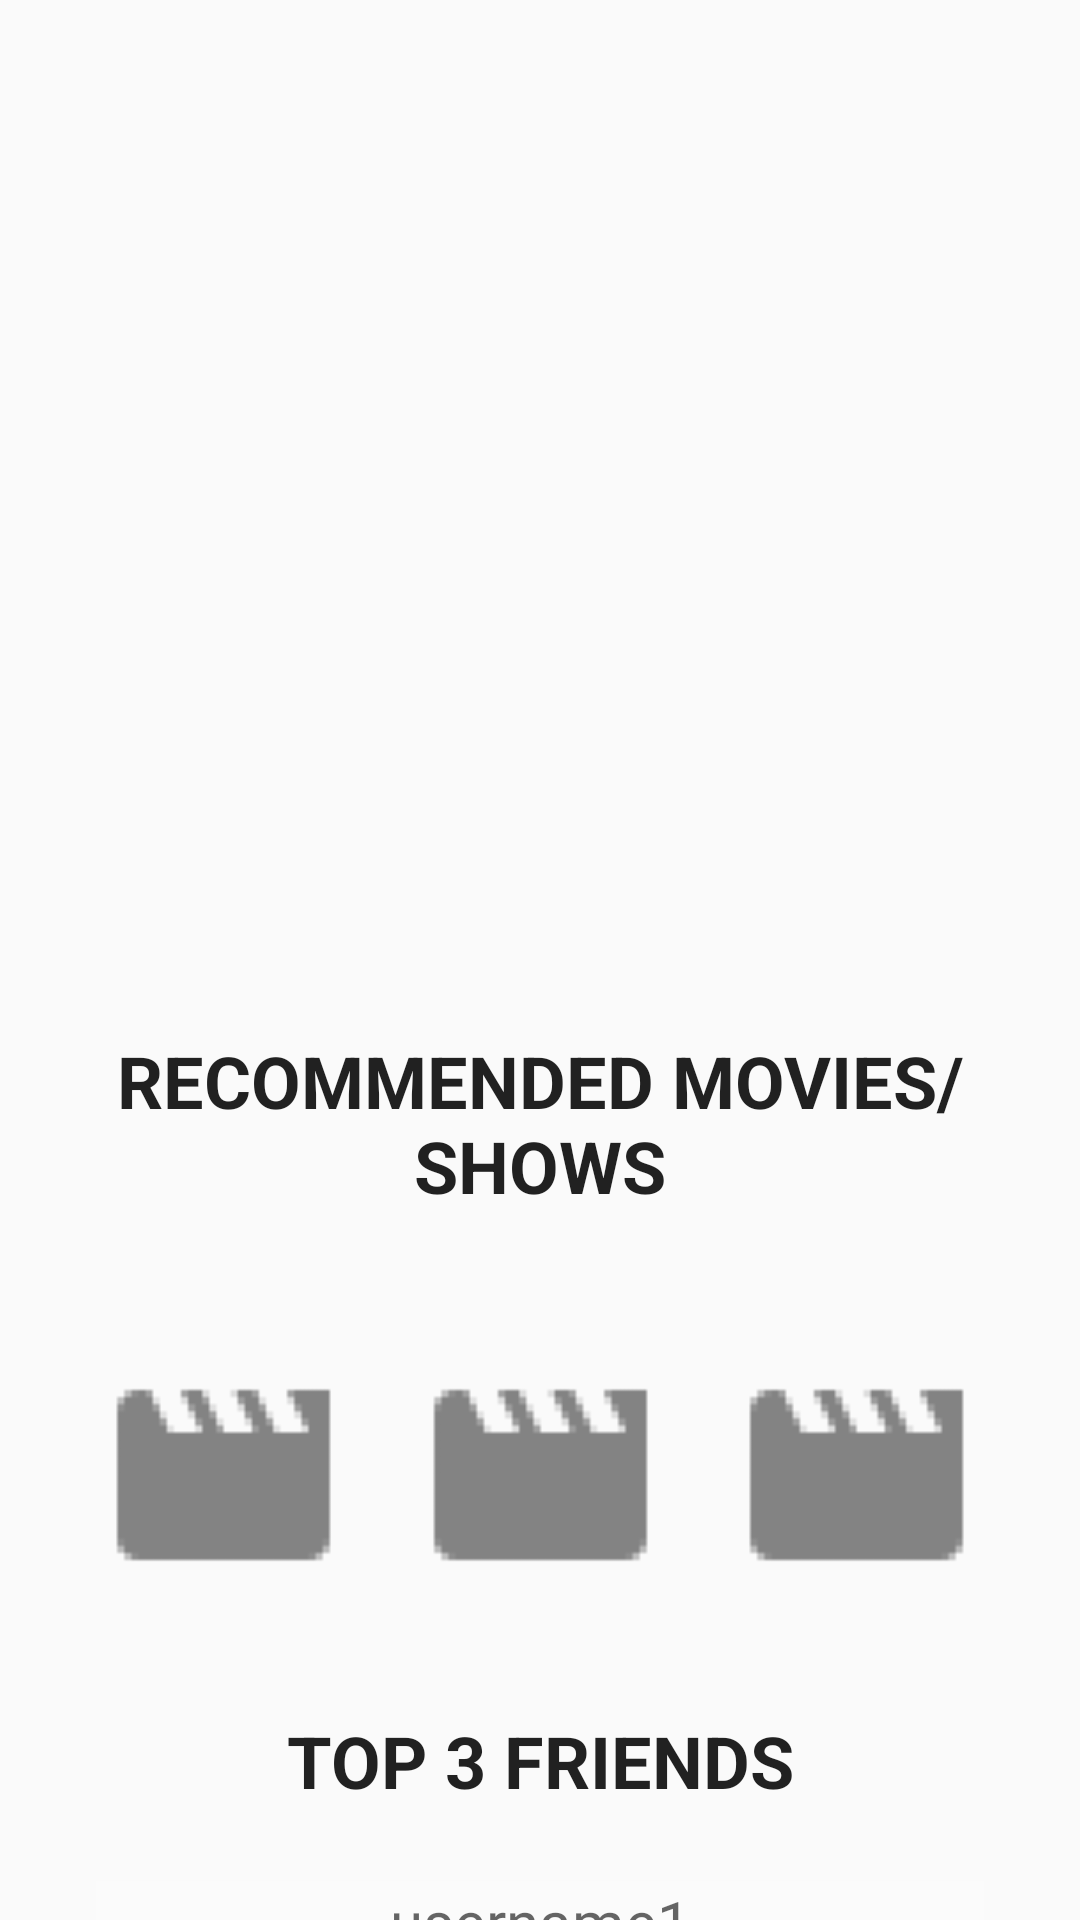

Where to tap for icons on this 1080 x 1920 app screen, as (x,y):
movie thumbnail: (223,1475), (540,1475), (856,1475)
